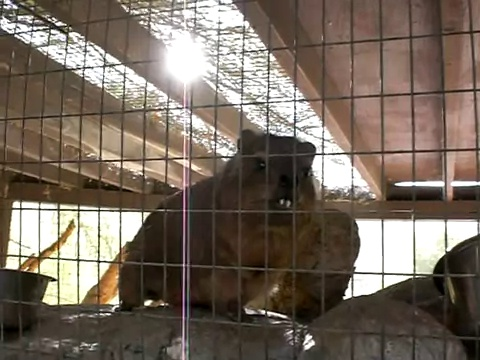Rock Hyrex: (120, 130, 320, 325)
